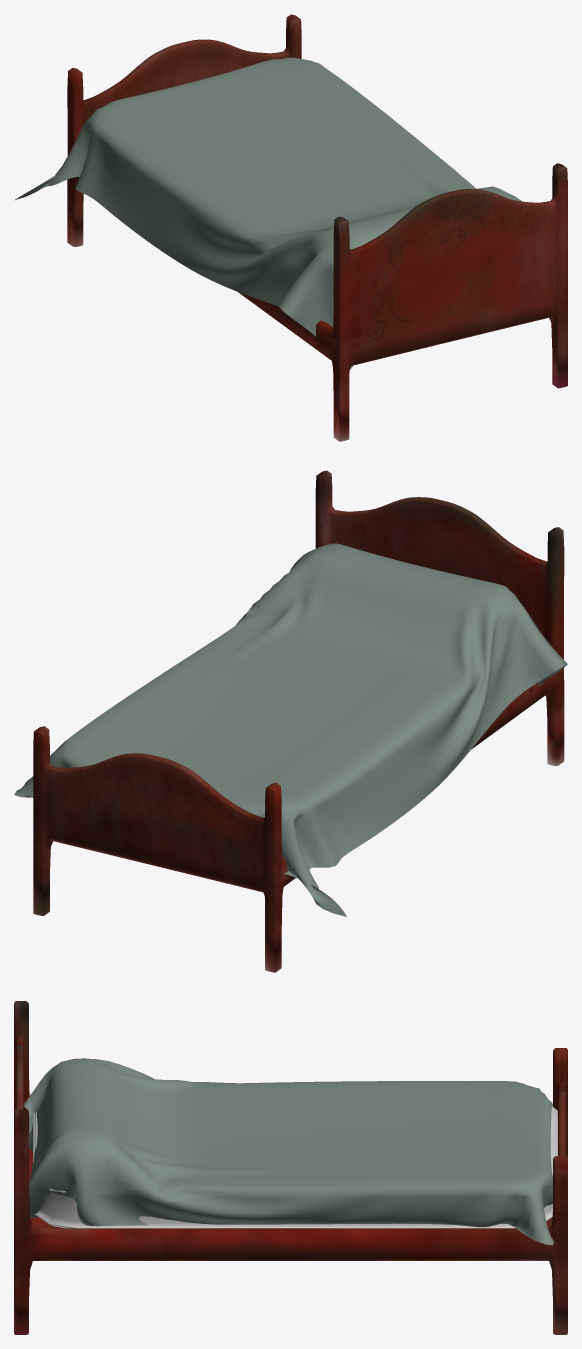
File: bed4.glb
The picture shows the model from 3 angles, top to bottom: view 1: azimuth 30°, elevation 25°; view 2: azimuth 150°, elevation 25°; view 3: azimuth 270°, elevation 25°; orthographic projection. The views are drawn at different scales.
Visible parts, largest first — view 1: Bed_13 - Default_0, Bed_08 - Default_0; view 2: Bed_13 - Default_0, Bed_08 - Default_0; view 3: Bed_13 - Default_0, Bed_08 - Default_0, Bed_02 - Default_0.
Boxes of the visible parts, x1,y1,x2,y2 form: Bed_13 - Default_0: (14, 57, 522, 369); Bed_08 - Default_0: (67, 14, 567, 441); Bed_13 - Default_0: (14, 543, 567, 916); Bed_08 - Default_0: (33, 470, 564, 972); Bed_13 - Default_0: (23, 1058, 558, 1245); Bed_08 - Default_0: (14, 1001, 567, 1334); Bed_02 - Default_0: (33, 1107, 557, 1228).
Bounding box in the file's own units: 136 × 90.75 × 204.
4 materials, 1 textured.
